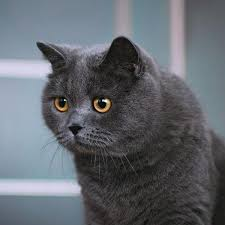cat: (29, 35, 225, 224)
